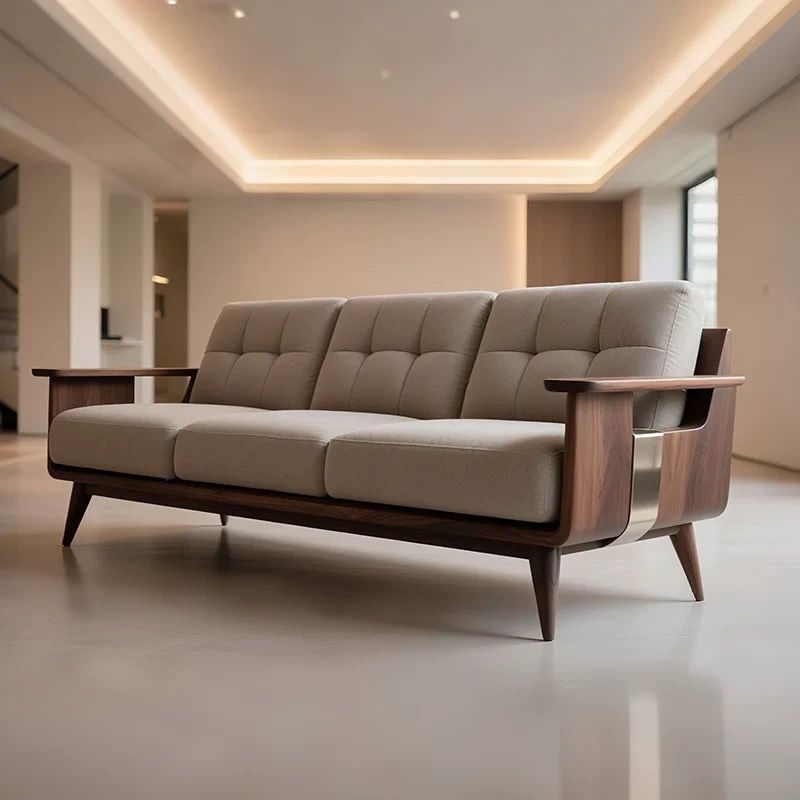3seatersofa: (32, 281, 744, 640)
backrest: (191, 281, 703, 422), (632, 392, 685, 428)
base: (48, 462, 549, 559)
leftarmrest: (542, 326, 749, 556)
leg: (530, 547, 561, 640), (670, 525, 703, 601), (62, 484, 91, 546), (220, 514, 227, 526)
rightarmrest: (31, 368, 198, 434)
seat: (55, 403, 564, 522)
